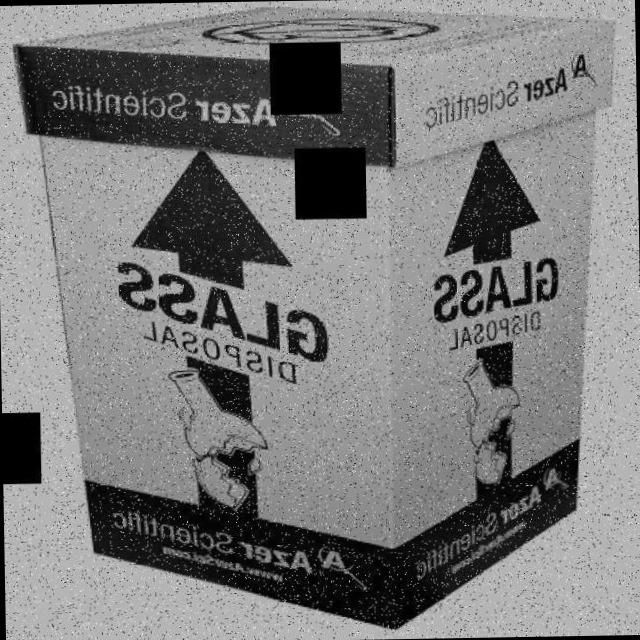box: (3, 2, 631, 640)
